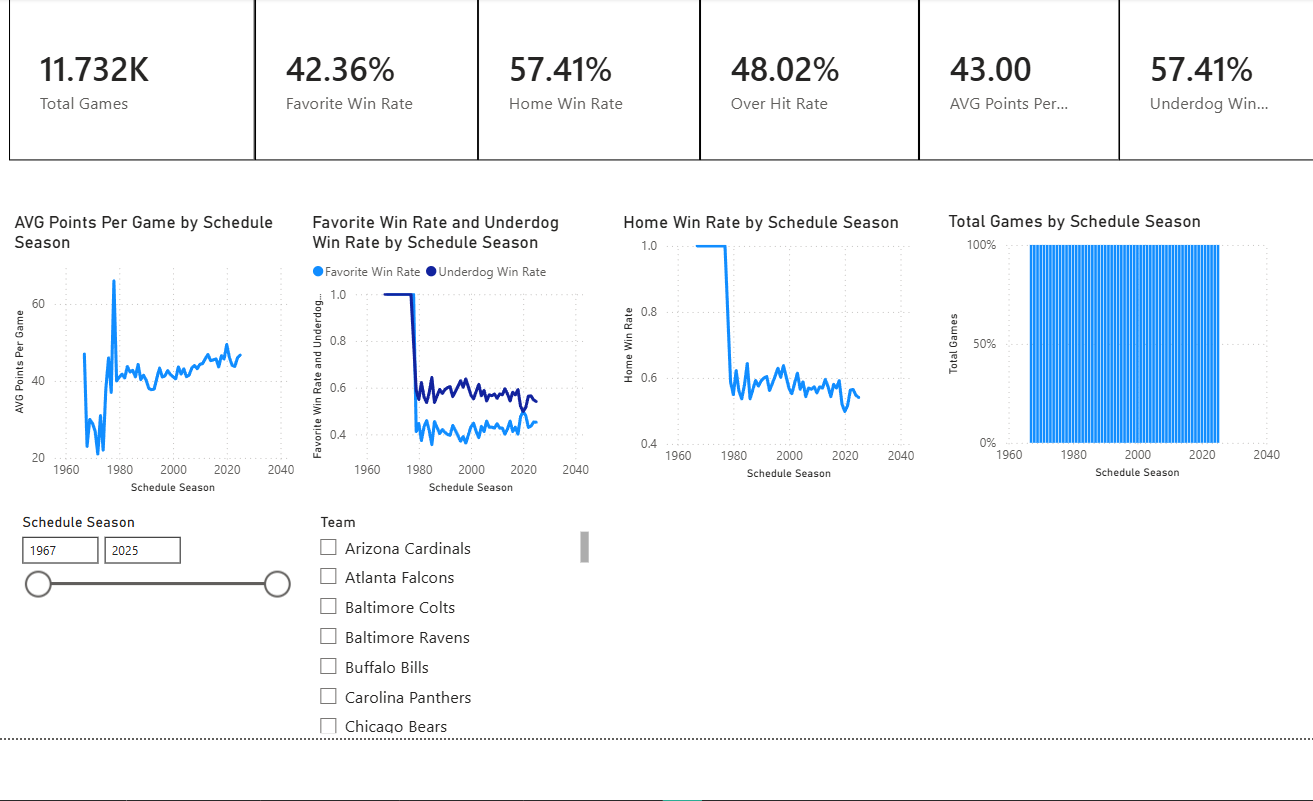

The page's visual inventory and layout, read from the dashboard file:
{"tool":"powerbi","page":{"name":"League Overview","canvas":[1280,720],"ordinal":0},"visuals":[{"type":"cardVisual","fields":{"Data":["nfl_sports_betting_final.AVG Points Per Game"]},"box":[894.8,0,194.5,157.6],"z":0},{"type":"cardVisual","fields":{"Data":["nfl_sports_betting_final.Home Win Rate"]},"box":[465.9,0,215.9,157.6],"z":1000},{"type":"cardVisual","fields":{"Data":["nfl_sports_betting_final.Favorite Win Rate"]},"box":[249,0,216.9,157.6],"z":2000},{"type":"cardVisual","fields":{"Data":["nfl_sports_betting_final.Over Hit Rate"]},"box":[681.8,0,213,157.6],"z":3000},{"type":"cardVisual","fields":{"Data":["nfl_sports_betting_final.Total Games"]},"box":[9.7,0,239.3,157.6],"z":4000},{"type":"lineChart","fields":{"Category":["nfl_sports_betting_final.schedule_season"],"Y":["nfl_sports_betting_final.AVG Points Per Game"]},"box":[9.7,208.1,282.1,278.2],"z":5000},{"type":"lineChart","fields":{"Y":["nfl_sports_betting_final.Home Win Rate"],"Category":["nfl_sports_betting_final.schedule_season"]},"box":[602.1,208.1,292.8,264.6],"z":6000},{"type":"lineChart","fields":{"Category":["nfl_sports_betting_final.schedule_season"],"Y":["nfl_sports_betting_final.Favorite Win Rate","nfl_sports_betting_final.Underdog Win Rate"]},"box":[300,208,279,278],"z":7000},{"type":"cardVisual","fields":{"Data":["nfl_sports_betting_final.Underdog Win Rate"]},"box":[1089.4,0,190.6,157.6],"z":8000},{"type":"hundredPercentStackedColumnChart","fields":{"Category":["nfl_sports_betting_final.schedule_season"],"Y":["nfl_sports_betting_final.Total Games"]},"box":[918.2,207.5,334.2,264.4],"z":9000},{"type":"slicer","fields":{"Values":["nfl_sports_betting_final.schedule_season"]},"box":[10,496,282,224],"z":9001},{"type":"slicer","fields":{"Values":["nfl_sports_betting_final.team_home"]},"box":[300,496,279,224],"z":9002}]}

Visuals, with their boxes on the page's 1280x720 design canvas (x1, y1, x2, y2). These are canvas units, not pixel positions in the 1313x801 screenshot, which may show the page scaled, cropped or inside an application window:
cardVisual - nfl_sports_betting_final.AVG Points Per Game: l=895, t=0, r=1089, b=158
cardVisual - nfl_sports_betting_final.Home Win Rate: l=466, t=0, r=682, b=158
cardVisual - nfl_sports_betting_final.Favorite Win Rate: l=249, t=0, r=466, b=158
cardVisual - nfl_sports_betting_final.Over Hit Rate: l=682, t=0, r=895, b=158
cardVisual - nfl_sports_betting_final.Total Games: l=10, t=0, r=249, b=158
lineChart - nfl_sports_betting_final.schedule_season x nfl_sports_betting_final.AVG Points Per Game: l=10, t=208, r=292, b=486
lineChart - nfl_sports_betting_final.Home Win Rate x nfl_sports_betting_final.schedule_season: l=602, t=208, r=895, b=473
lineChart - nfl_sports_betting_final.schedule_season x nfl_sports_betting_final.Favorite Win Rate: l=300, t=208, r=579, b=486
cardVisual - nfl_sports_betting_final.Underdog Win Rate: l=1089, t=0, r=1280, b=158
hundredPercentStackedColumnChart - nfl_sports_betting_final.schedule_season x nfl_sports_betting_final.Total Games: l=918, t=208, r=1252, b=472
slicer - nfl_sports_betting_final.schedule_season: l=10, t=496, r=292, b=720
slicer - nfl_sports_betting_final.team_home: l=300, t=496, r=579, b=720
